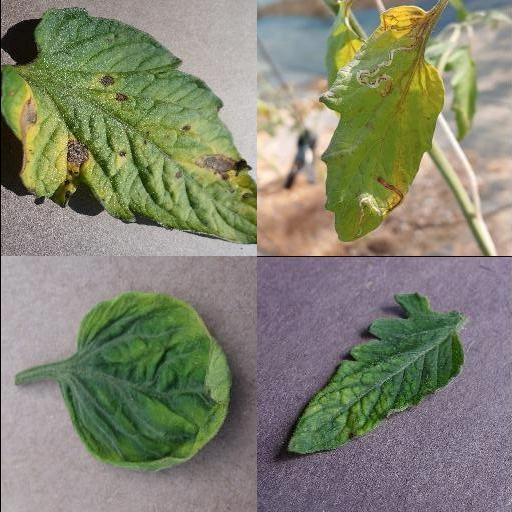Early Blight: (0, 10, 256, 244)
Leaf Miner: (317, 1, 449, 243)
Mosaic Virus: (285, 290, 463, 454)
Yellow Leaf Curl Virus: (57, 292, 231, 472)
